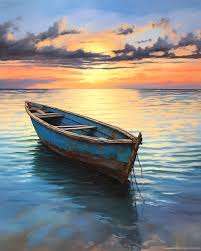boat: (24, 99, 143, 187)
